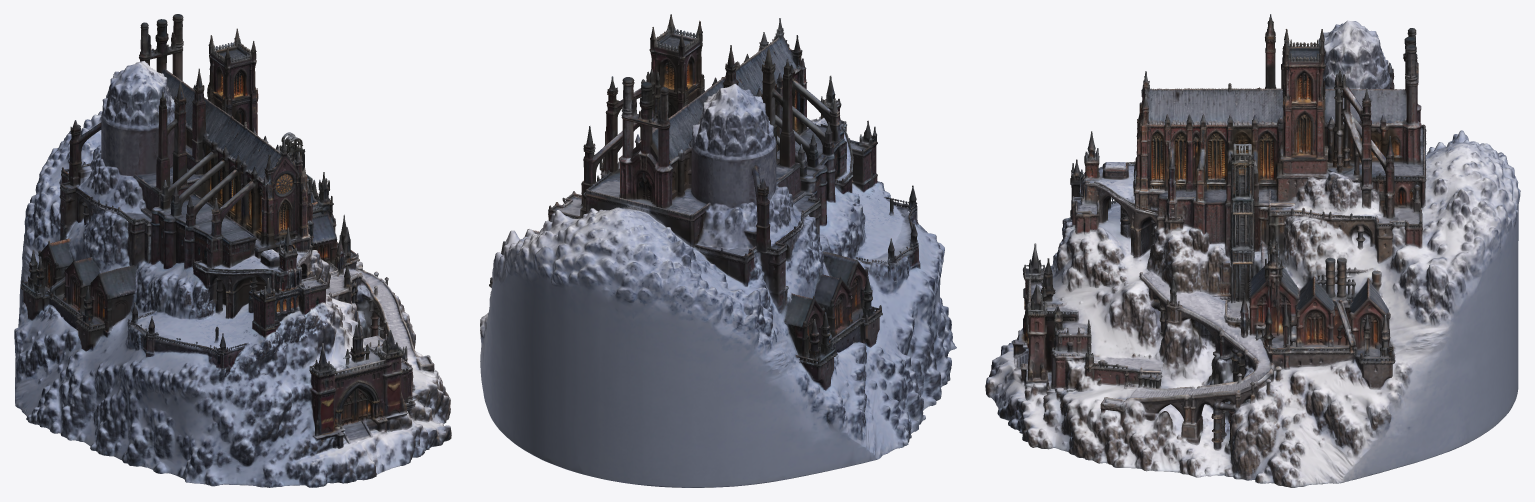
The model's file is gcastle2.glb.
The picture shows the model from 3 angles, left to right: view 1: azimuth 30°, elevation 25°; view 2: azimuth 150°, elevation 25°; view 3: azimuth 270°, elevation 25°; orthographic projection. The views are drawn at different scales.
Bounding box in the file's own units: 0.8662 × 0.7332 × 0.9799.
Materials: 1 (1 with a texture image).
